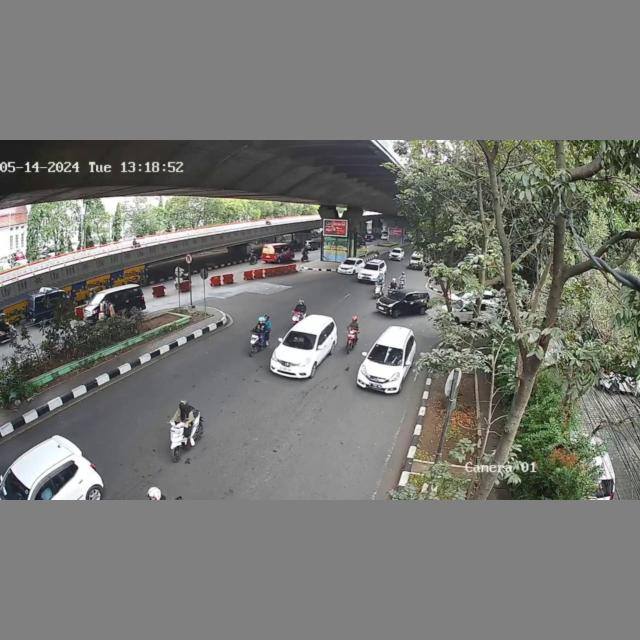windshield: (367, 343, 404, 368), (284, 330, 317, 350)
